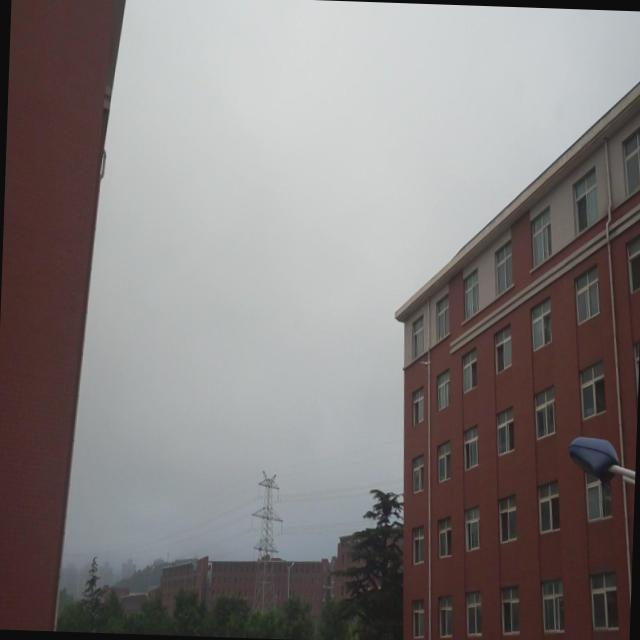drone: (418, 354, 432, 372)
